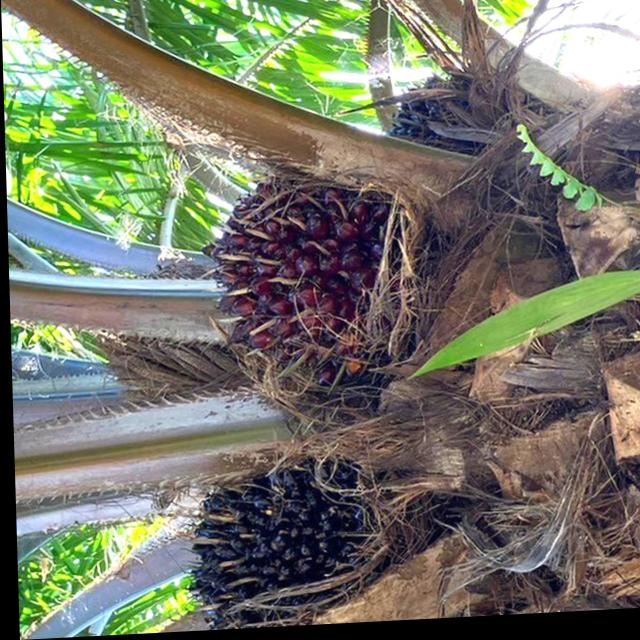ripe: (195, 150, 419, 402)
